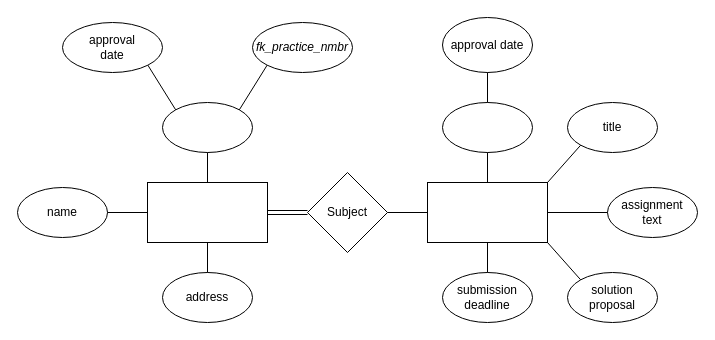
This 715x340 diagram has some shape labels left out. The box of each missing label's shape, as (x1, y1, x2, y2) in pixels:
Excercises: (426, 182, 548, 242)
practice_nmbr: (442, 102, 532, 152)
student_id: (162, 102, 252, 152)
Students: (146, 182, 268, 242)
